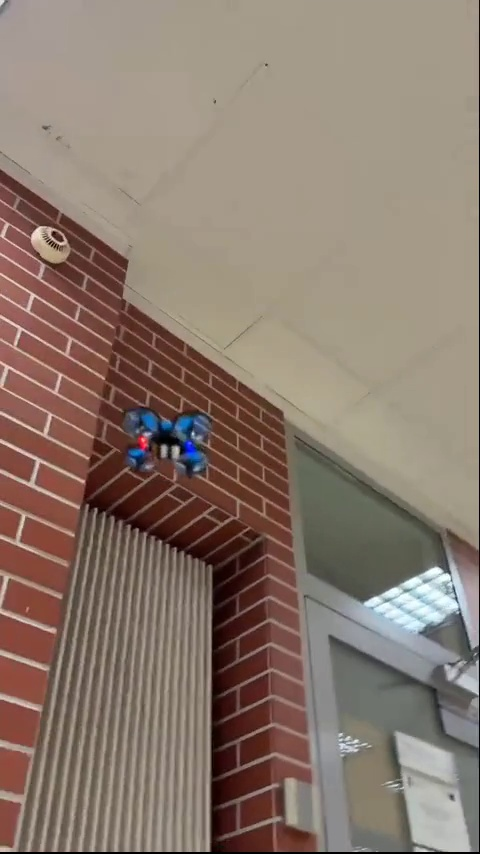drone: (122, 406, 212, 475)
